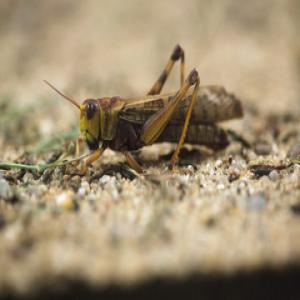locust: (61, 50, 243, 155)
